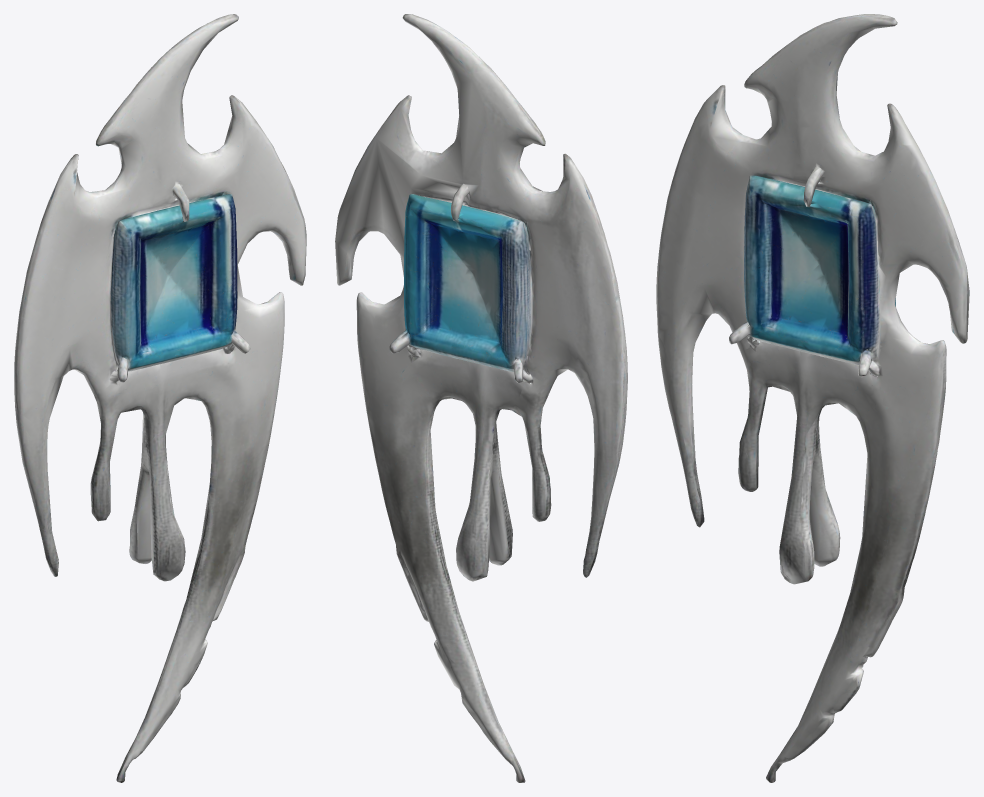
Rendered from earring.glb.
3 renders of one model, left to right at view 1: azimuth 30°, elevation 25°; view 2: azimuth 150°, elevation 25°; view 3: azimuth 330°, elevation 25°, orthographic. The views are drawn at different scales.
Parts seen in each view (by area): view 1: earring; view 2: earring; view 3: earring.
Part boxes in pixels (x1,y1,x2,y2): earring: (14,14,306,782); earring: (335,14,627,782); earring: (656,14,969,782).
Size of the model in its own units: 0.4105 by 1 by 0.1081.
1 material, 1 textured.
